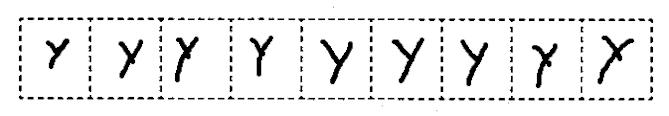Y: (592, 31, 638, 87), (384, 34, 429, 87), (316, 34, 355, 88), (455, 35, 492, 88), (528, 37, 564, 91), (169, 33, 204, 86), (114, 34, 146, 85), (245, 33, 278, 79), (42, 32, 75, 71)
